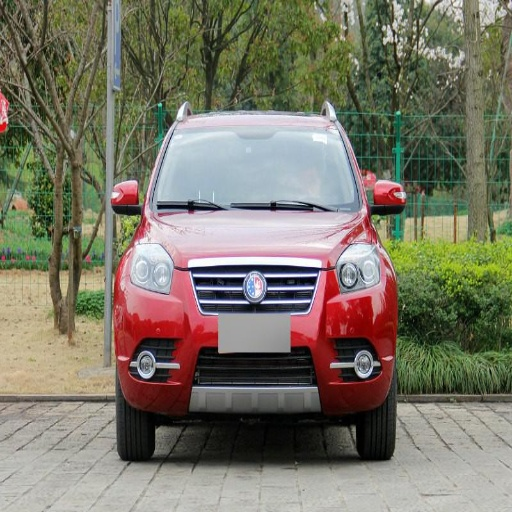front_bumper: (116, 262, 397, 415)
front_right_light: (126, 242, 174, 294)
hood: (140, 208, 375, 268)
left_mirror: (370, 181, 406, 216)
